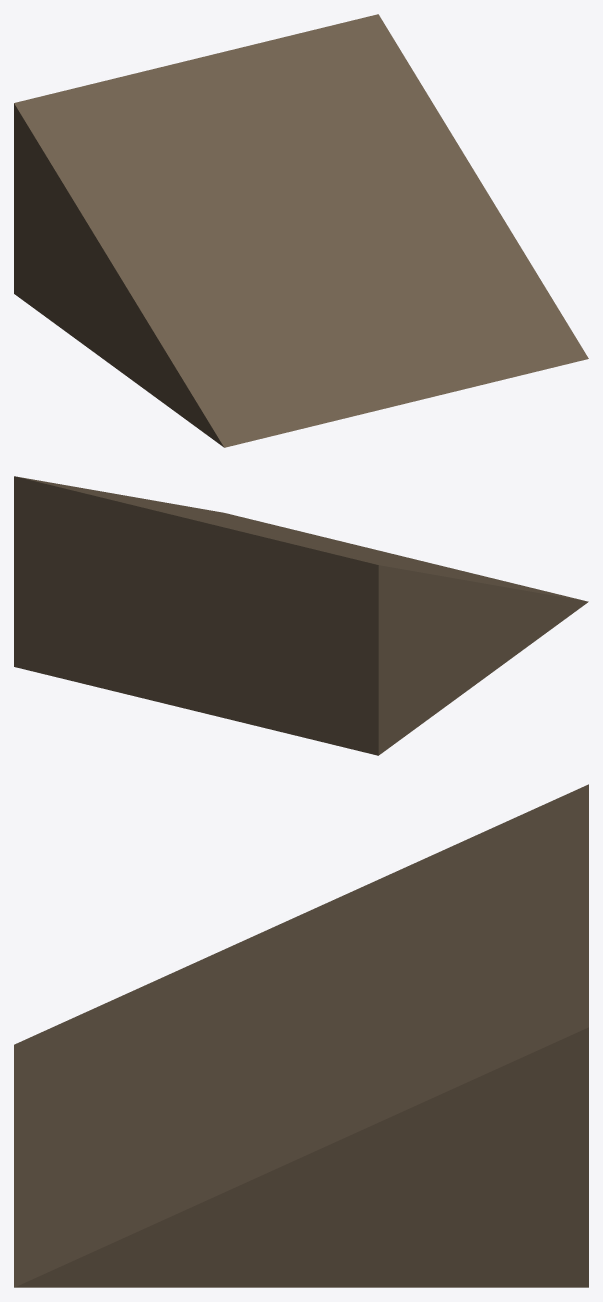
File: terrain-soil-outer-corner.lod0.glb
3 renders of one model, top to bottom at view 1: azimuth 30°, elevation 25°; view 2: azimuth 150°, elevation 25°; view 3: azimuth 270°, elevation 25°, orthographic. The views are drawn at different scales.
Visible parts, largest first — view 1: terrain-soil-outer-corner__body; view 2: terrain-soil-outer-corner__body; view 3: terrain-soil-outer-corner__body.
Part boxes in pixels (bbox=[...]): terrain-soil-outer-corner__body: bbox=[14, 14, 588, 447]; terrain-soil-outer-corner__body: bbox=[14, 476, 588, 755]; terrain-soil-outer-corner__body: bbox=[14, 784, 588, 1287].
Bounding box in the file's own units: 2 × 1.03 × 2.
